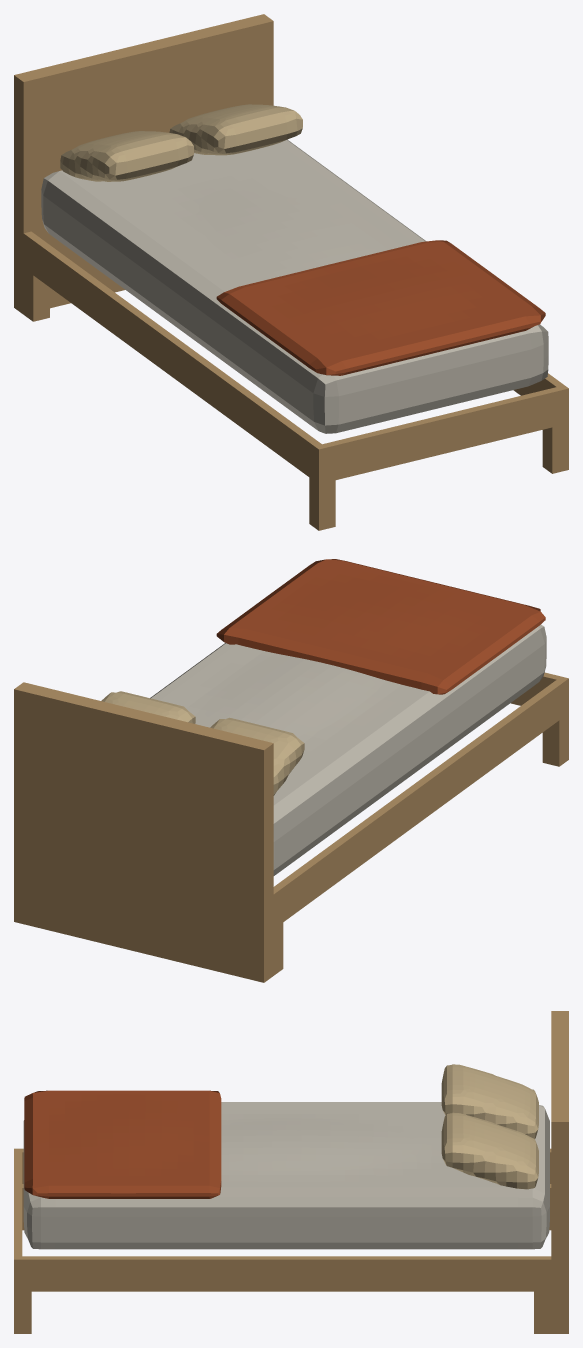
Rendered from SAB-KBD-single.glb.
3 renders of one model, top to bottom at view 1: azimuth 30°, elevation 25°; view 2: azimuth 150°, elevation 25°; view 3: azimuth 270°, elevation 25°, orthographic. The views are drawn at different scales.
Parts seen in each view (by area): view 1: mattress:pbr, head:pbr, throw:pbr, rail-l:pbr, foot:pbr, pillow-l:pbr, pillow-r:pbr, leg-fl:pbr, leg-fr:pbr, leg-hl:pbr, rail-r:pbr; view 2: head:pbr, mattress:pbr, throw:pbr, rail-l:pbr, pillow-l:pbr, pillow-r:pbr, leg-fl:pbr; view 3: mattress:pbr, throw:pbr, rail-r:pbr, head:pbr, pillow-r:pbr, pillow-l:pbr, foot:pbr, leg-fr:pbr, leg-hr:pbr.
Part boxes in pixels (bbox=[...]): mattress:pbr: bbox=[41, 139, 548, 433]; head:pbr: bbox=[14, 14, 273, 314]; throw:pbr: bbox=[216, 240, 545, 375]; rail-l:pbr: bbox=[23, 231, 326, 484]; foot:pbr: bbox=[322, 387, 561, 482]; pillow-l:pbr: bbox=[60, 131, 193, 181]; pillow-r:pbr: bbox=[169, 104, 302, 155]; leg-fl:pbr: bbox=[309, 477, 335, 530]; leg-fr:pbr: bbox=[542, 423, 568, 473]; leg-hl:pbr: bbox=[23, 268, 49, 321]; rail-r:pbr: bbox=[513, 373, 568, 424]; head:pbr: bbox=[14, 682, 273, 982]; mattress:pbr: bbox=[150, 624, 546, 875]; throw:pbr: bbox=[216, 559, 545, 694]; rail-l:pbr: bbox=[273, 676, 568, 928]; pillow-l:pbr: bbox=[210, 717, 304, 795]; pillow-r:pbr: bbox=[101, 691, 195, 723]; leg-fl:pbr: bbox=[542, 713, 568, 766]; mattress:pbr: bbox=[23, 1102, 549, 1249]; throw:pbr: bbox=[24, 1090, 221, 1198]; rail-r:pbr: bbox=[14, 1256, 551, 1291]; head:pbr: bbox=[551, 1011, 568, 1333]; pillow-r:pbr: bbox=[441, 1112, 538, 1189]; pillow-l:pbr: bbox=[441, 1064, 538, 1138]; foot:pbr: bbox=[14, 1152, 22, 1256]; leg-fr:pbr: bbox=[14, 1291, 31, 1333]; leg-hr:pbr: bbox=[534, 1291, 551, 1333].
Size of the model in its own units: 0.9 by 0.8 by 1.9.
